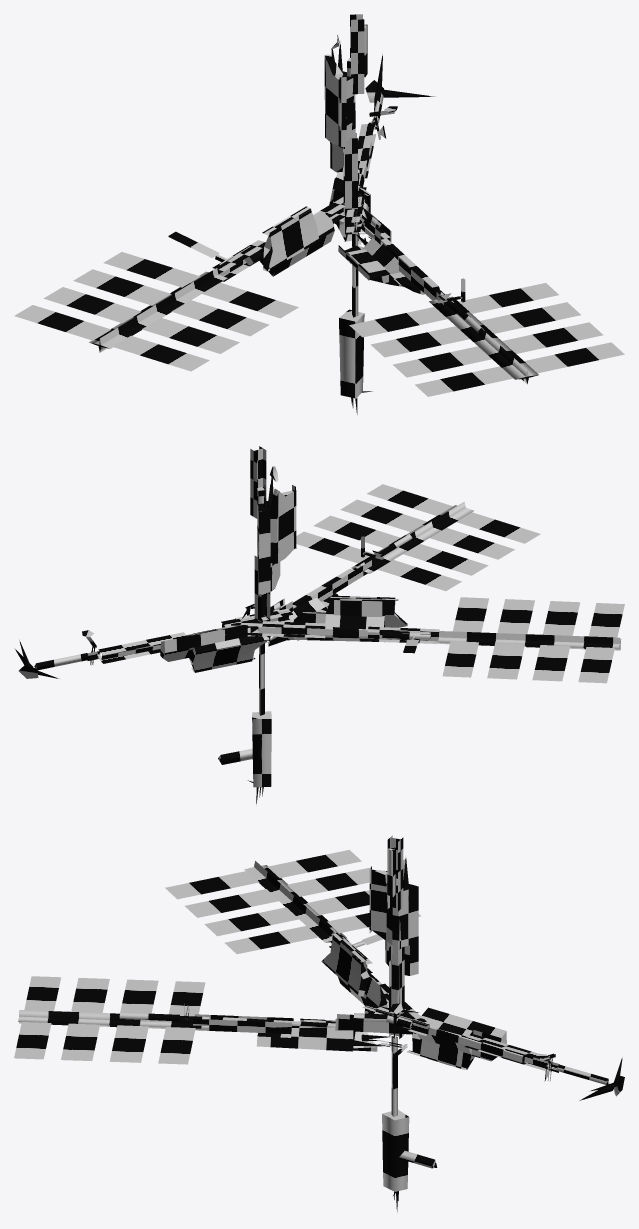
Rendered from asset-vru-satellite-a.obj.
3 views of the same model, one above another, from view 1: azimuth 30°, elevation 25°; view 2: azimuth 150°, elevation 25°; view 3: azimuth 270°, elevation 25° (orthographic). The views are drawn at different scales.
Visible parts, largest first — view 1: asset_vru_satellite_a; view 2: asset_vru_satellite_a; view 3: asset_vru_satellite_a.
Part boxes in pixels (<box>): asset_vru_satellite_a: <box>14,14,624,415</box>; asset_vru_satellite_a: <box>14,446,624,805</box>; asset_vru_satellite_a: <box>14,835,624,1213</box>.
Size of the model in its own units: 287 by 202 by 298.
1 material, 1 textured.
